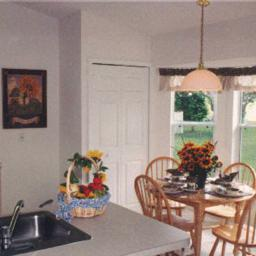Lavaplatos: (4, 201, 92, 253)
Puerta: (90, 63, 148, 203)
